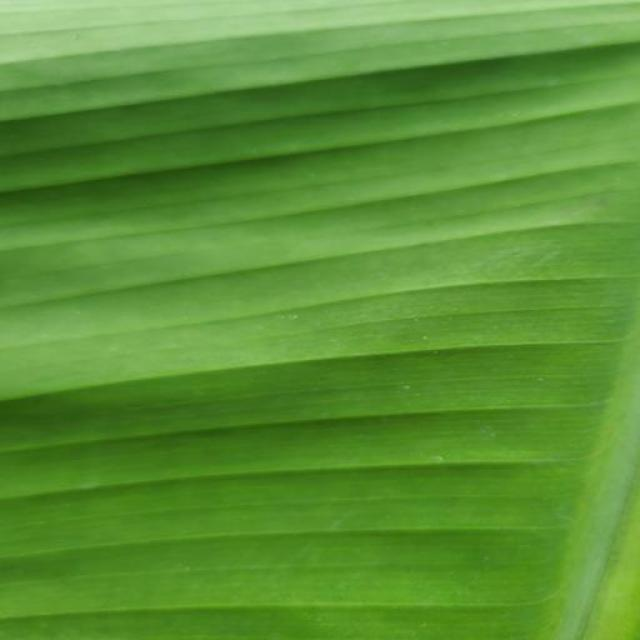Black_leaf_spot: (0, 0, 615, 631)
